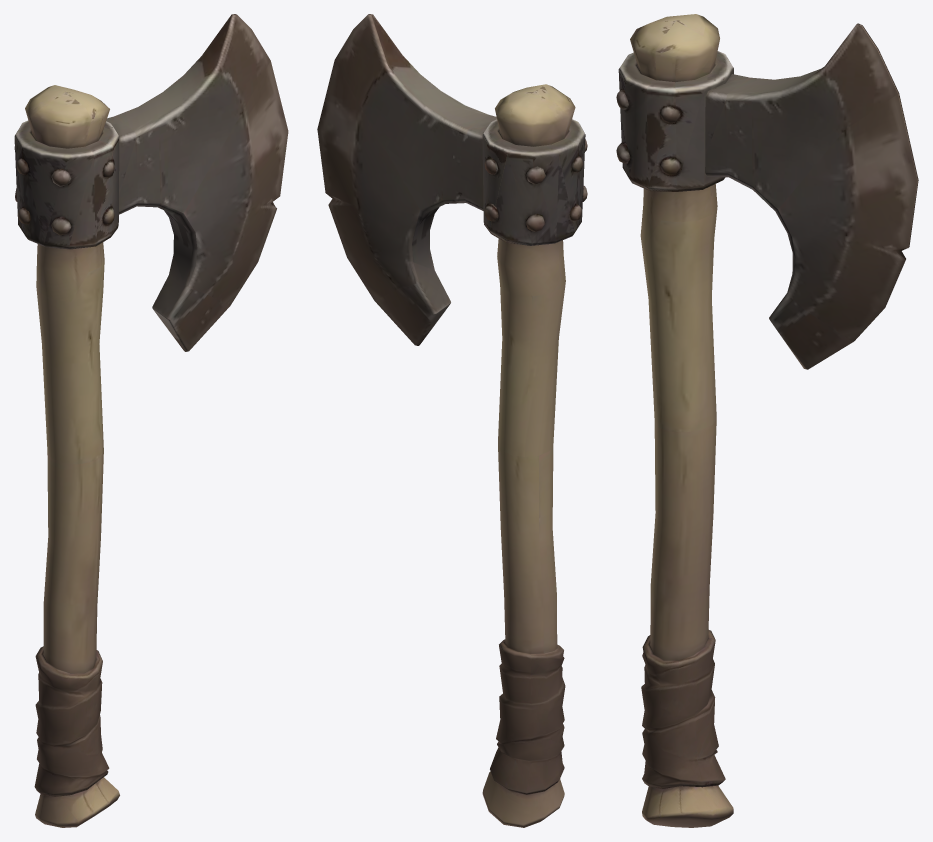
Rendered from axe_wynd_2h_starter.glb.
3 views of the same model, side by side, from view 1: azimuth 30°, elevation 25°; view 2: azimuth 150°, elevation 25°; view 3: azimuth 330°, elevation 25° (orthographic). The views are drawn at different scales.
Parts seen in each view (by area): view 1: tripo_node_344120b8-e192-43f2-98a7-98d280c78e91; view 2: tripo_node_344120b8-e192-43f2-98a7-98d280c78e91; view 3: tripo_node_344120b8-e192-43f2-98a7-98d280c78e91.
Part boxes in pixels (<box>): tripo_node_344120b8-e192-43f2-98a7-98d280c78e91: <box>14,14,288,827</box>; tripo_node_344120b8-e192-43f2-98a7-98d280c78e91: <box>317,14,587,827</box>; tripo_node_344120b8-e192-43f2-98a7-98d280c78e91: <box>616,14,918,827</box>.
Bounding box in the file's own units: 0.5263 × 1.45 × 0.1827.
Materials: 1 (1 with a texture image).
